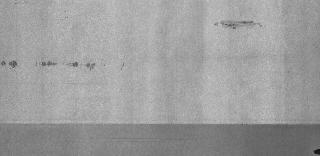inclusion: (214, 19, 264, 32)
punching hole: (311, 148, 319, 156)
rolled pit: (0, 60, 132, 72)
welding line: (1, 118, 320, 130)
